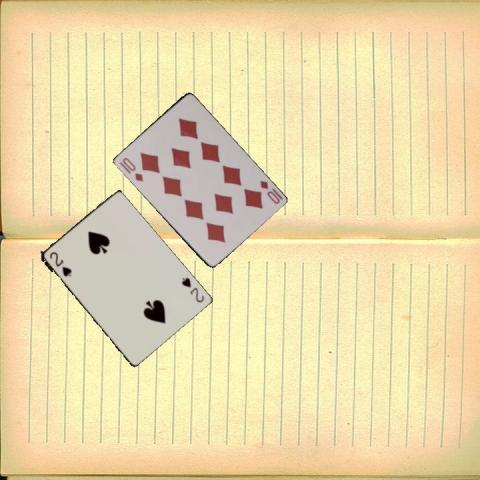10d: (257, 178, 284, 206), (119, 154, 144, 183)
2s: (178, 274, 205, 304), (46, 249, 72, 278)
